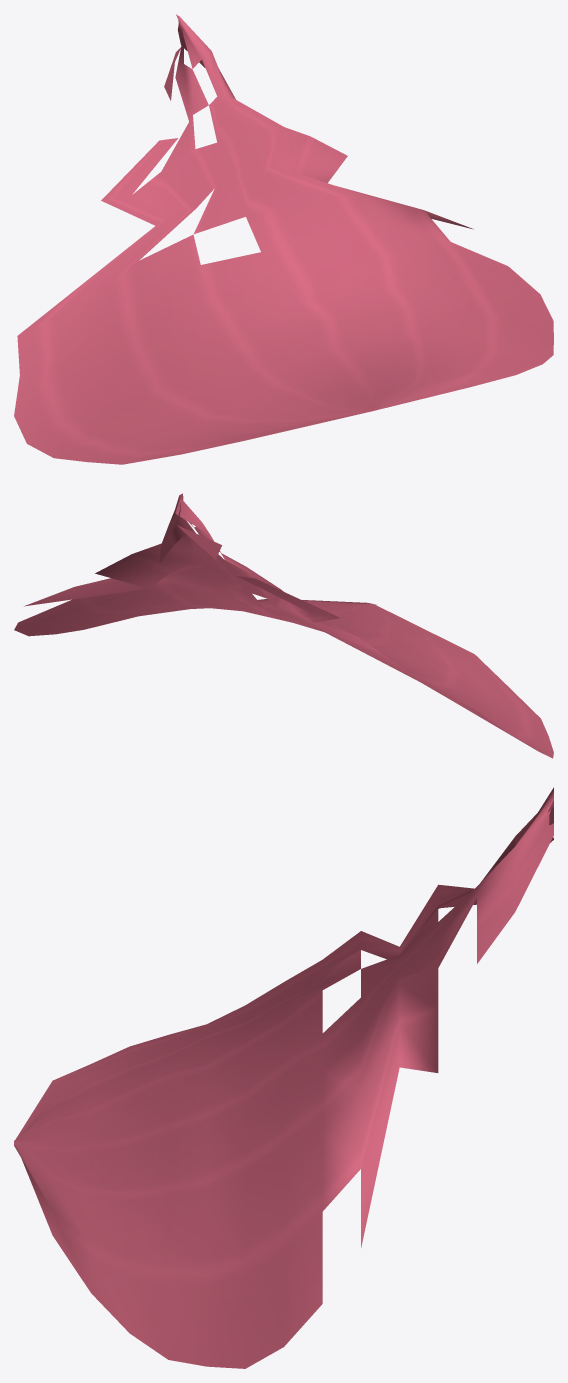
Rendered from petal_23_small_mix.glb.
3 views of the same model, one above another, from view 1: azimuth 30°, elevation 25°; view 2: azimuth 150°, elevation 25°; view 3: azimuth 270°, elevation 25° (orthographic). The views are drawn at different scales.
Parts seen in each view (by area): view 1: petal_23_small_mix; view 2: petal_23_small_mix; view 3: petal_23_small_mix.
Part boxes in pixels (x1,y1,x2,y2): petal_23_small_mix: (14,14,553,464); petal_23_small_mix: (14,493,553,758); petal_23_small_mix: (14,787,553,1368).
Size of the model in its own units: 0.075 by 0.0404 by 0.048.
1 material, 1 textured.
